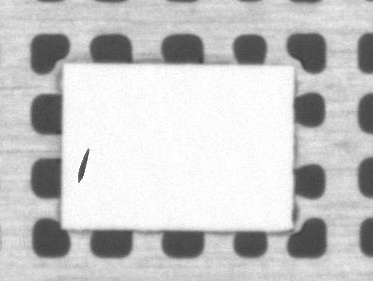DIE_INK: (100, 110, 121, 139)
